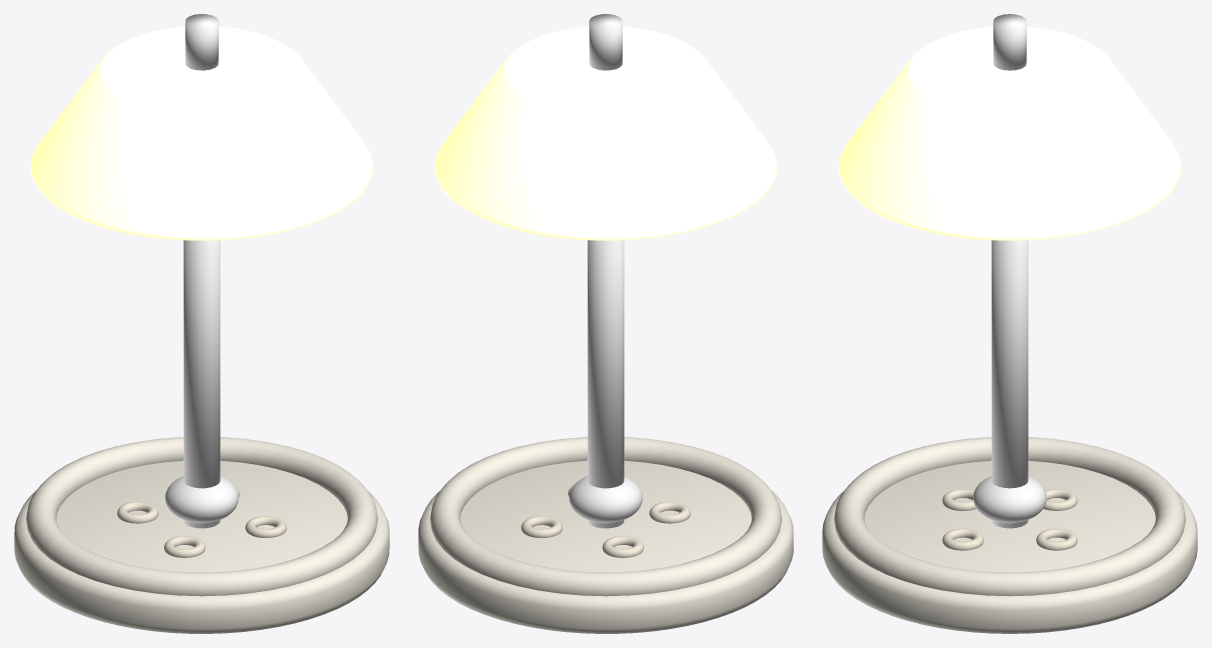
The model's file is sc_lamp.glb.
3 renders of one model, left to right at view 1: azimuth 30°, elevation 25°; view 2: azimuth 150°, elevation 25°; view 3: azimuth 270°, elevation 25°, orthographic.
Parts seen in each view (by area): view 1: Lamp_Shade, Lamp_ButtonBase, Lamp_BaseRim, Lamp_Stem, Lamp_Collar, Lamp_Finial, Lamp_Hole_2, Lamp_Hole_1, Lamp_Hole_0; view 2: Lamp_Shade, Lamp_ButtonBase, Lamp_BaseRim, Lamp_Stem, Lamp_Collar, Lamp_Finial, Lamp_Hole_0, Lamp_Hole_3, Lamp_Hole_2; view 3: Lamp_Shade, Lamp_ButtonBase, Lamp_BaseRim, Lamp_Stem, Lamp_Collar, Lamp_Finial, Lamp_Hole_1, Lamp_Hole_3, Lamp_Hole_0, Lamp_Hole_2.
Part boxes in pixels (x1,y1,x2,y2): Lamp_Shade: (31,26,372,240); Lamp_ButtonBase: (14,460,389,633); Lamp_BaseRim: (26,437,377,596); Lamp_Stem: (183,240,220,528); Lamp_Collar: (165,476,238,523); Lamp_Finial: (185,14,218,70); Lamp_Hole_2: (117,501,158,523); Lamp_Hole_1: (245,516,286,537); Lamp_Hole_0: (164,536,205,557); Lamp_Shade: (435,26,776,240); Lamp_ButtonBase: (418,460,793,633); Lamp_BaseRim: (430,437,781,596); Lamp_Stem: (587,240,624,528); Lamp_Collar: (569,476,642,523); Lamp_Finial: (589,14,622,70); Lamp_Hole_0: (649,501,690,523); Lamp_Hole_3: (521,516,562,537); Lamp_Hole_2: (602,536,643,557); Lamp_Shade: (838,26,1181,240); Lamp_ButtonBase: (822,460,1197,633); Lamp_BaseRim: (834,437,1185,596); Lamp_Stem: (991,240,1028,528); Lamp_Collar: (973,476,1046,523); Lamp_Finial: (993,14,1026,70); Lamp_Hole_1: (942,528,983,550); Lamp_Hole_3: (1036,528,1077,550); Lamp_Hole_0: (942,489,976,510); Lamp_Hole_2: (1043,489,1077,510).
Size of the model in its own units: 0.112 by 0.177 by 0.112.
